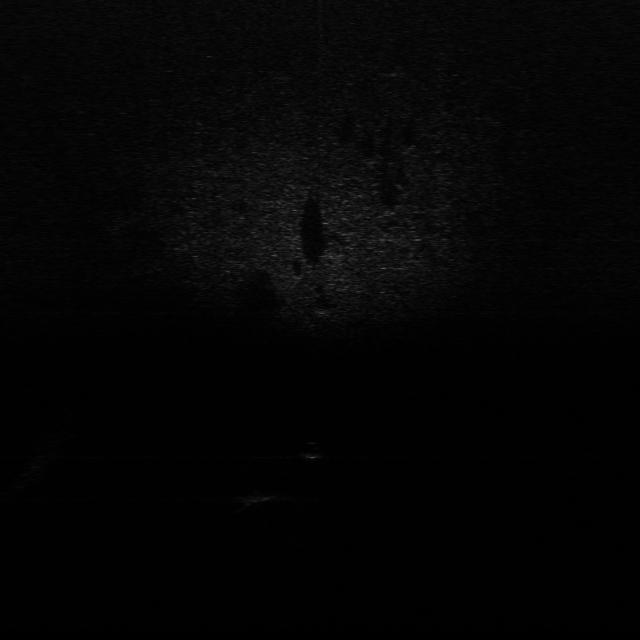ball: (297, 437, 329, 459)
square cage: (238, 486, 282, 508)
